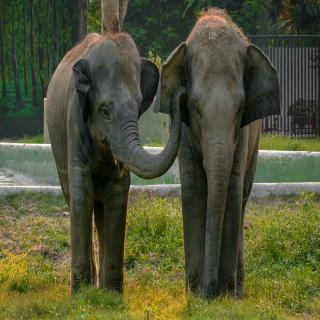Elephant: (45, 25, 186, 308), (157, 1, 283, 307)
